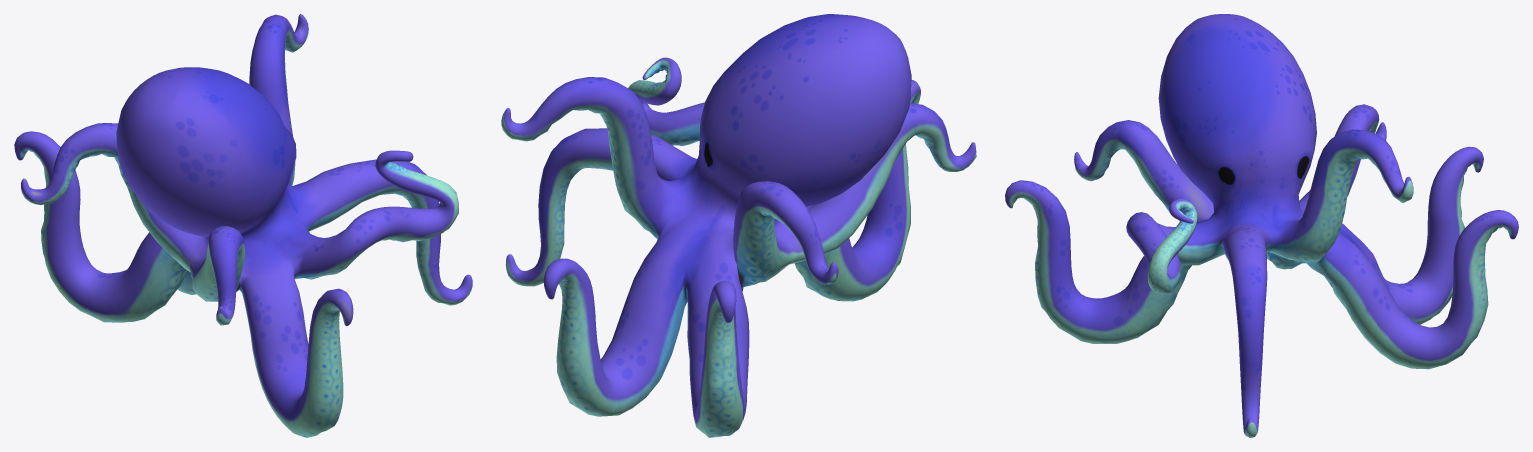
The model's file is purple_octopus.glb.
3 views of the same model, side by side, from view 1: azimuth 30°, elevation 25°; view 2: azimuth 150°, elevation 25°; view 3: azimuth 270°, elevation 25° (orthographic). The views are drawn at different scales.
Parts seen in each view (by area): view 1: Pulpo_LowPoly; view 2: Pulpo_LowPoly; view 3: Pulpo_LowPoly.
Boxes of the visible parts, left/top/right/bottom form: Pulpo_LowPoly: left=14, top=14, right=472, bottom=437; Pulpo_LowPoly: left=501, top=14, right=976, bottom=437; Pulpo_LowPoly: left=1005, top=14, right=1518, bottom=437.
Bounding box in the file's own units: 0.1618 × 0.1291 × 0.2031.
Materials: 1 (1 with a texture image).
